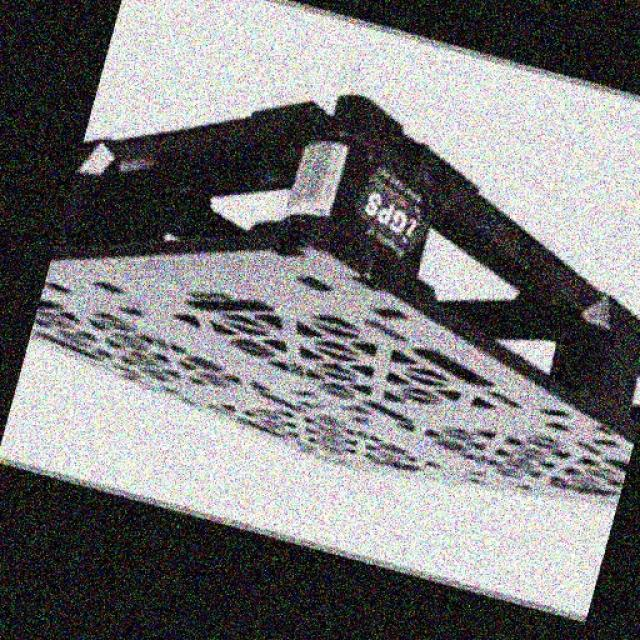igps: (15, 68, 640, 528)
